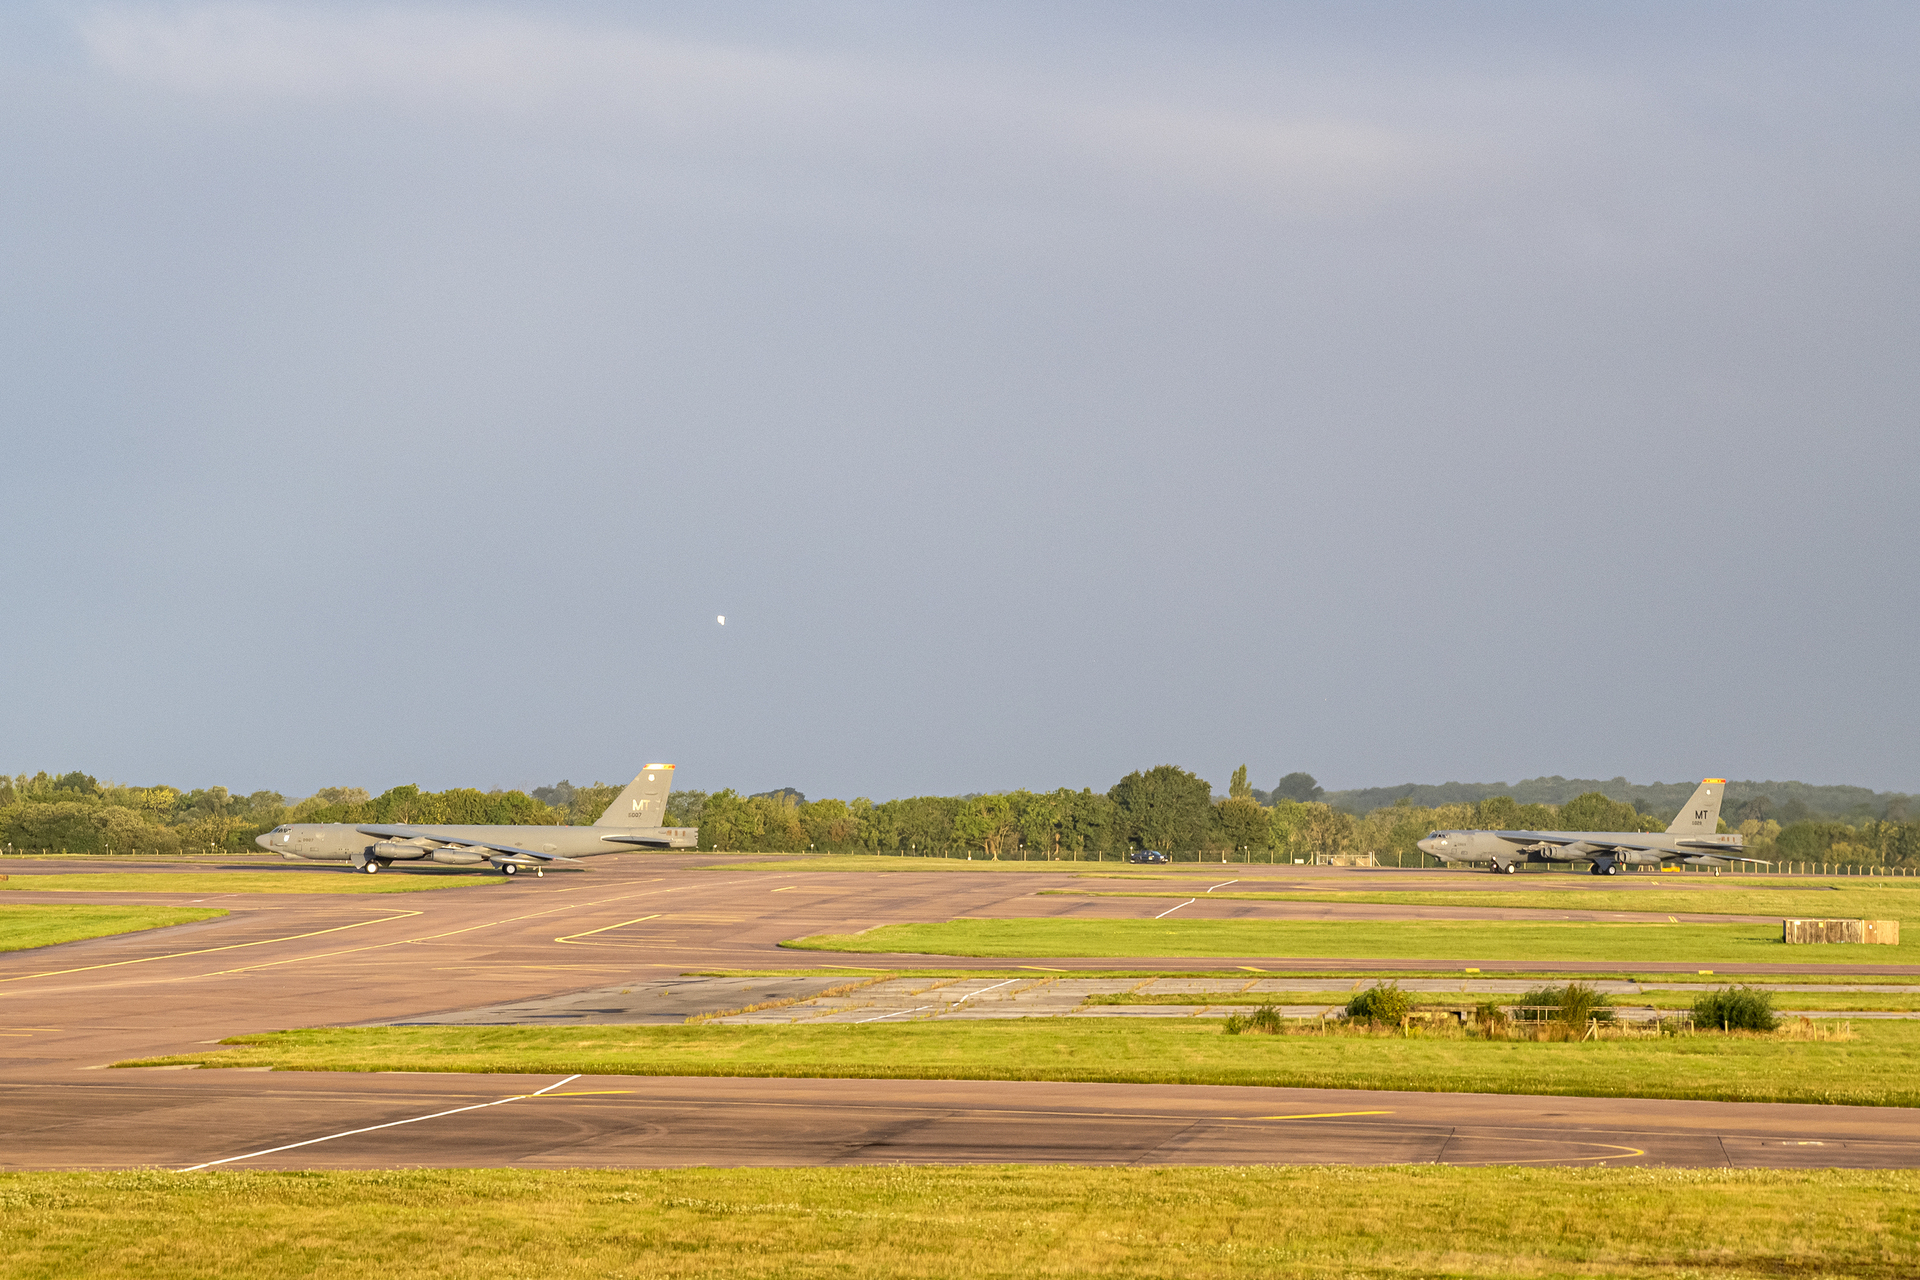B52: (254, 763, 699, 879), (1414, 777, 1774, 876)
